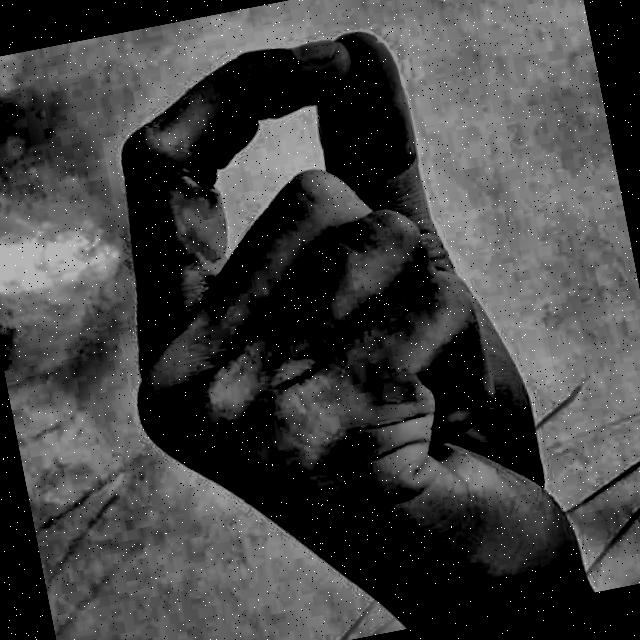Gha: (43, 0, 621, 640)
